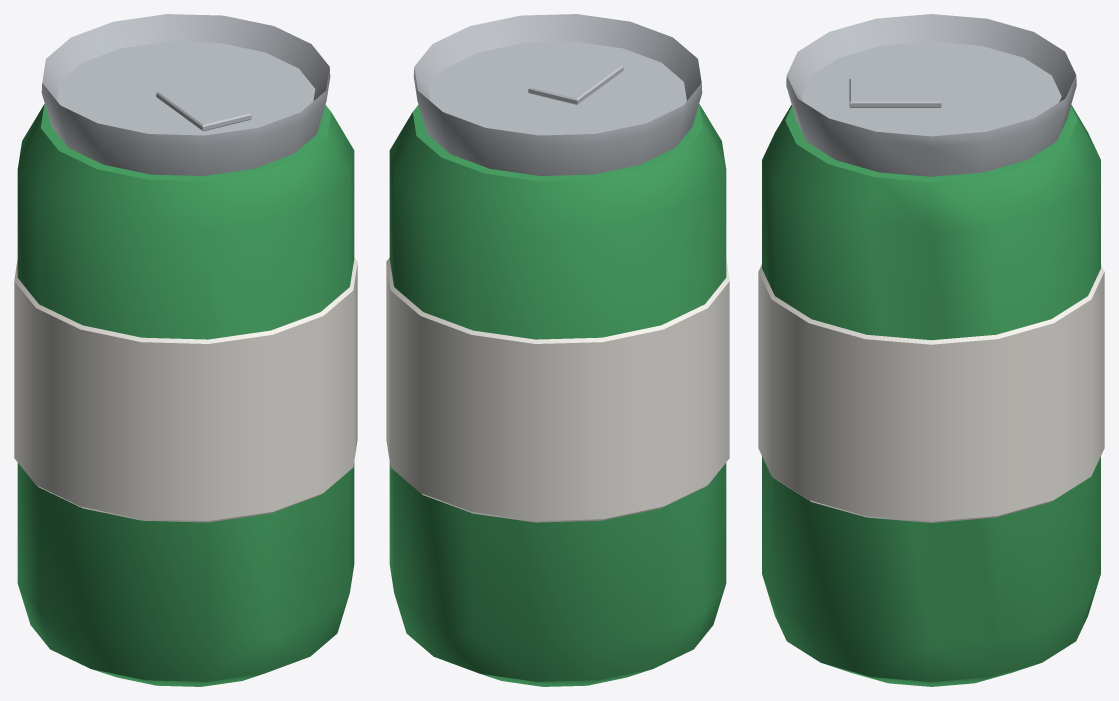
The model's file is Product_Can.fbx.
3 views of the same model, side by side, from view 1: azimuth 30°, elevation 25°; view 2: azimuth 150°, elevation 25°; view 3: azimuth 270°, elevation 25° (orthographic).
Parts seen in each view (by area): view 1: Product_Can_Body, Product_Can_Label, Product_Can_Top; view 2: Product_Can_Body, Product_Can_Label, Product_Can_Top; view 3: Product_Can_Body, Product_Can_Label, Product_Can_Top.
Boxes of the visible parts, x1=… form: Product_Can_Body: x1=17, y1=104, x2=354, y2=686; Product_Can_Label: x1=14, y1=258, x2=357, y2=522; Product_Can_Top: x1=41, y1=14, x2=330, y2=175; Product_Can_Body: x1=389, y1=104, x2=726, y2=686; Product_Can_Label: x1=386, y1=258, x2=729, y2=522; Product_Can_Top: x1=413, y1=14, x2=702, y2=175; Product_Can_Body: x1=762, y1=105, x2=1100, y2=686; Product_Can_Label: x1=758, y1=264, x2=1104, y2=522; Product_Can_Top: x1=786, y1=14, x2=1076, y2=176.
Size of the model in its own units: 6.74 by 12.12 by 6.74.
